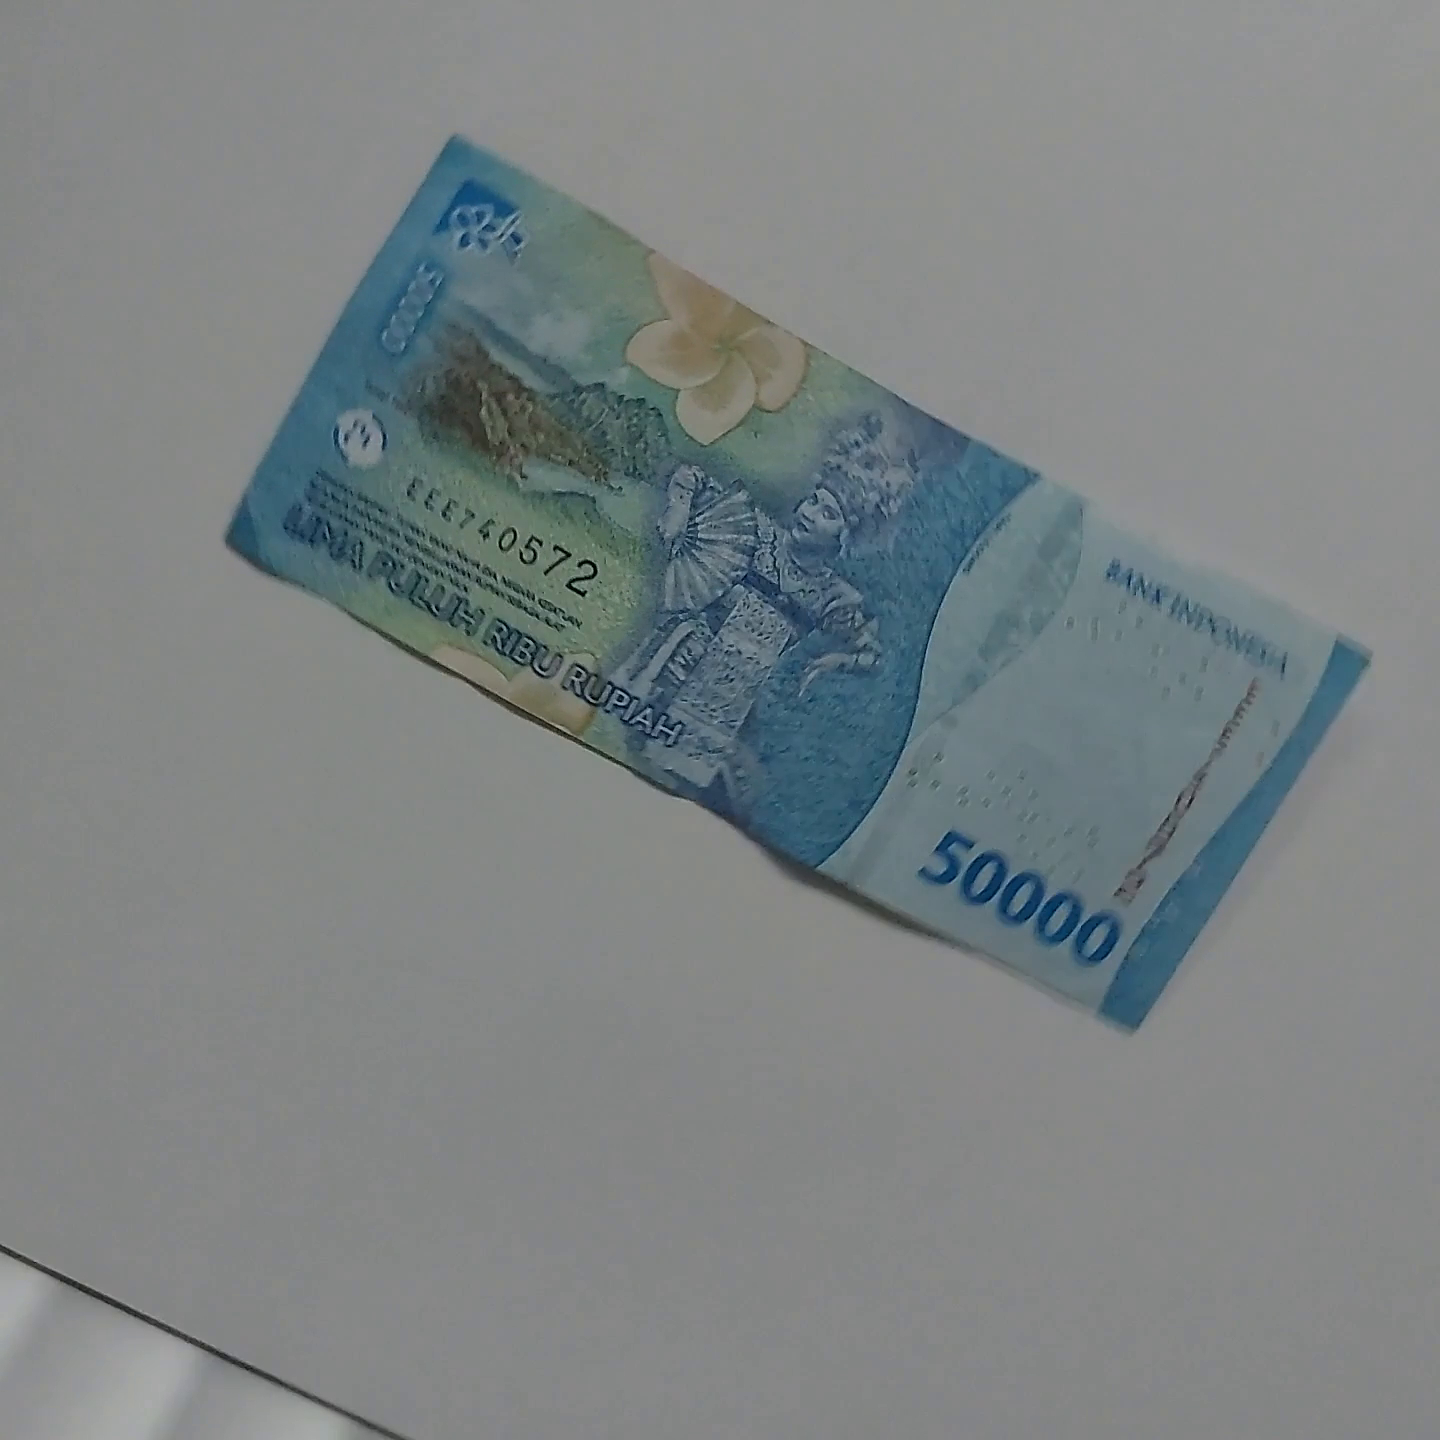50k: (400, 112, 1440, 570)
